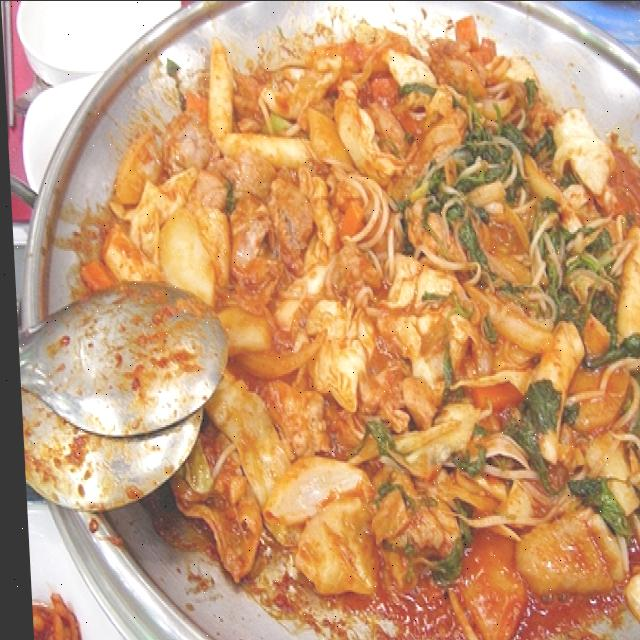鸡肉料理 含炸鸡: (46, 4, 640, 640)
